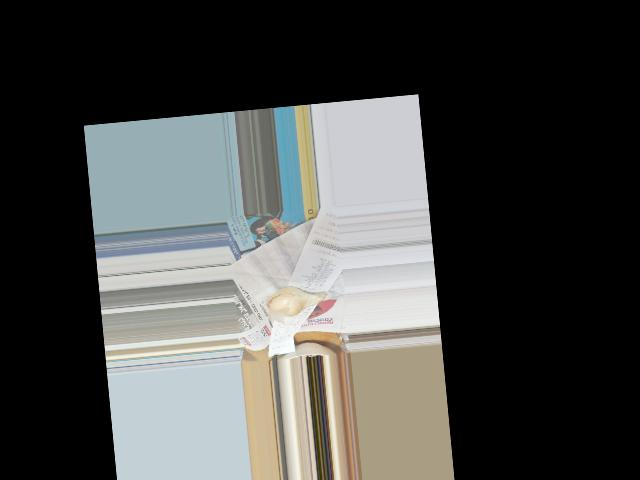onion: (267, 282, 324, 316)
